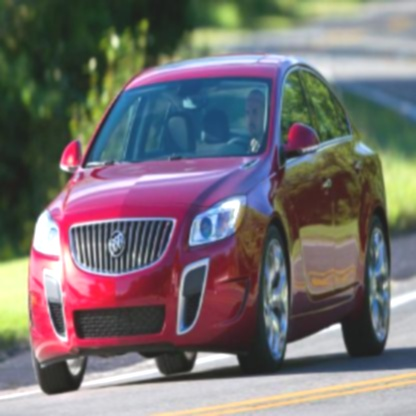Vehicle: (27, 53, 391, 396)
